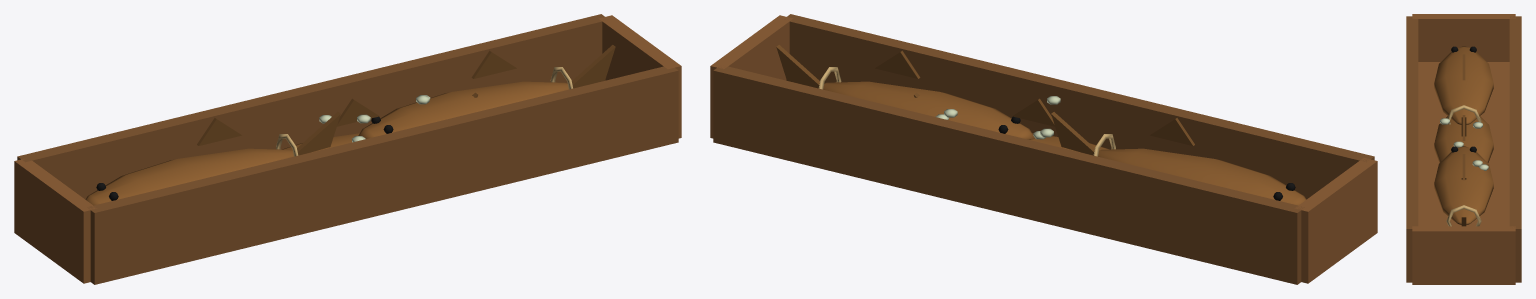
Rendered from Proc_SmokedFish.fbx.
3 views of the same model, side by side, from view 1: azimuth 30°, elevation 25°; view 2: azimuth 150°, elevation 25°; view 3: azimuth 270°, elevation 25° (orthographic). The views are drawn at different scales.
Parts seen in each view (by area): view 1: Proc_SmokedFish__Stack, Proc_SmokedFish; view 2: Proc_SmokedFish__Stack, Proc_SmokedFish, Proc_SmokedFish__Rotten; view 3: Proc_SmokedFish__Stack, Proc_SmokedFish, Proc_SmokedFish__Rotten.
Boxes of the visible parts, box(x1,y1,x2,y2) form: Proc_SmokedFish__Stack: box(14, 14, 681, 284); Proc_SmokedFish: box(282, 92, 477, 152); Proc_SmokedFish__Stack: box(710, 14, 1377, 284); Proc_SmokedFish: box(914, 92, 1109, 152); Proc_SmokedFish__Rotten: box(935, 96, 1060, 139); Proc_SmokedFish__Stack: box(1406, 14, 1521, 284); Proc_SmokedFish: box(1434, 115, 1493, 179); Proc_SmokedFish__Rotten: box(1440, 118, 1488, 170).
Bounding box in the file's own units: 0.348 × 0.0553 × 0.0779.
